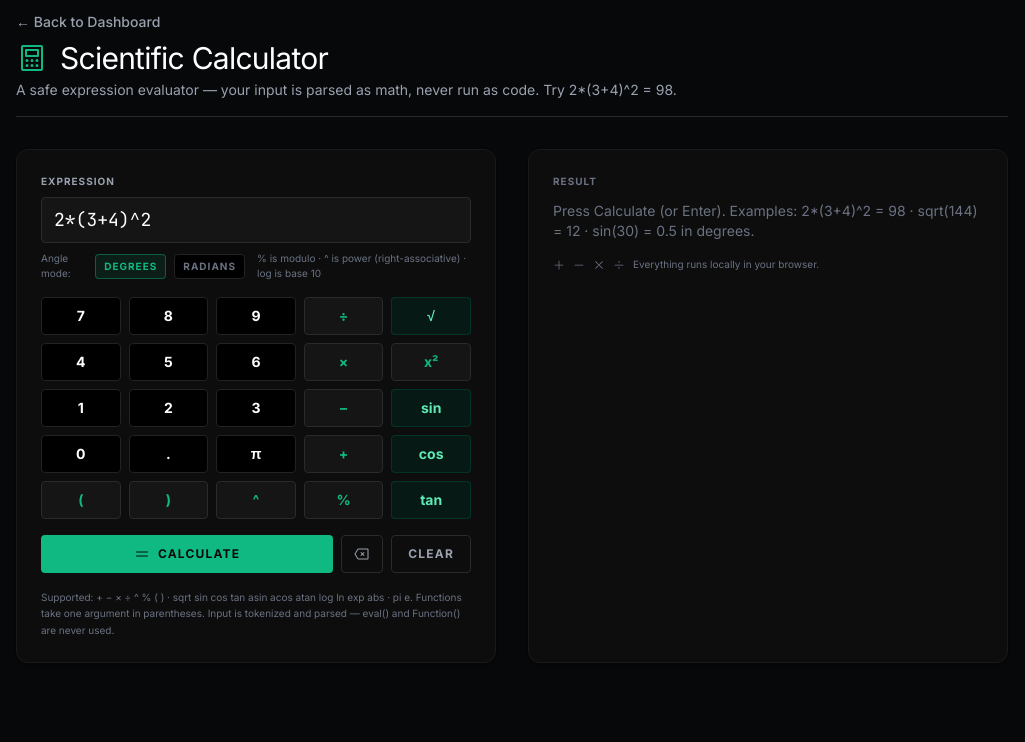
scientific-calc › shows a readable error for a bad expression in the UI
The width and height of the screenshot is (1025, 742).
Replace the text in the field labelled "Expression" with "1/0" at (256, 220), box x1=41 y1=197 x2=471 y2=243
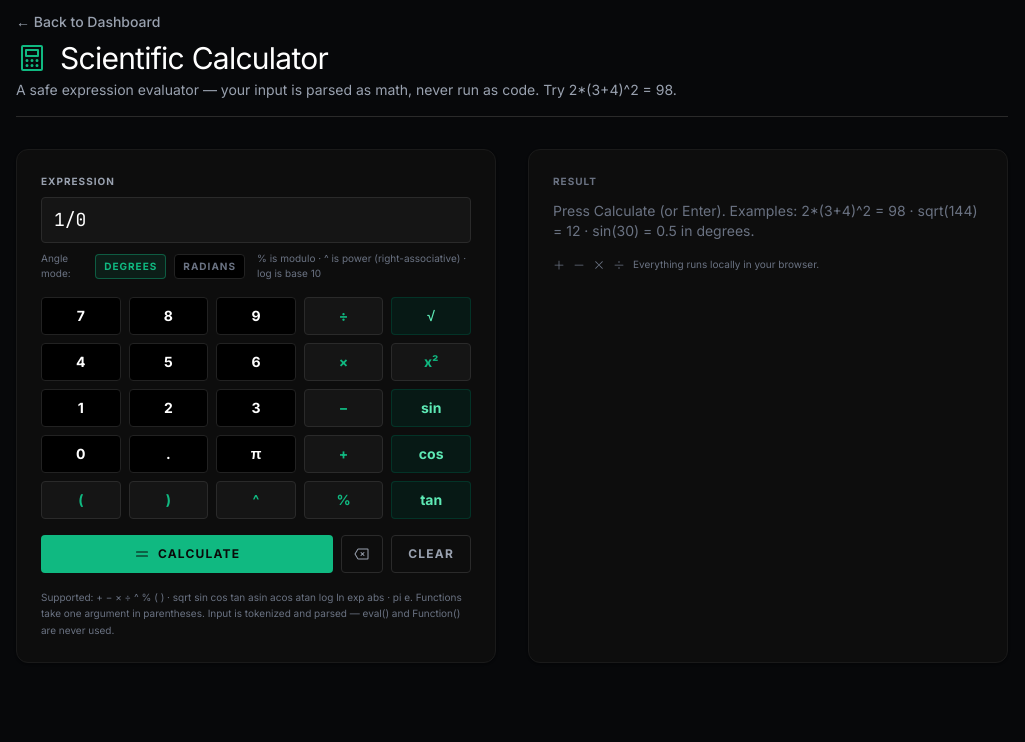
Click the button "Calculate" at (187, 554), box x1=41 y1=535 x2=333 y2=573
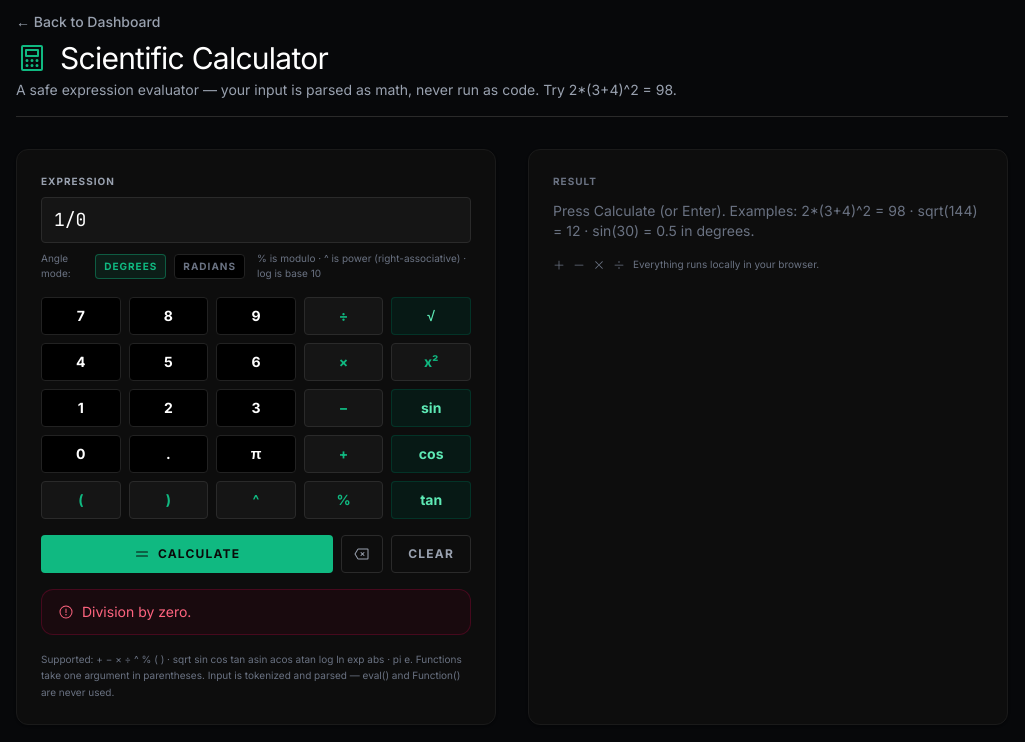
expect the text with test id "calc-error" shows "Division by zero": met, box x1=82 y1=603 x2=191 y2=620
